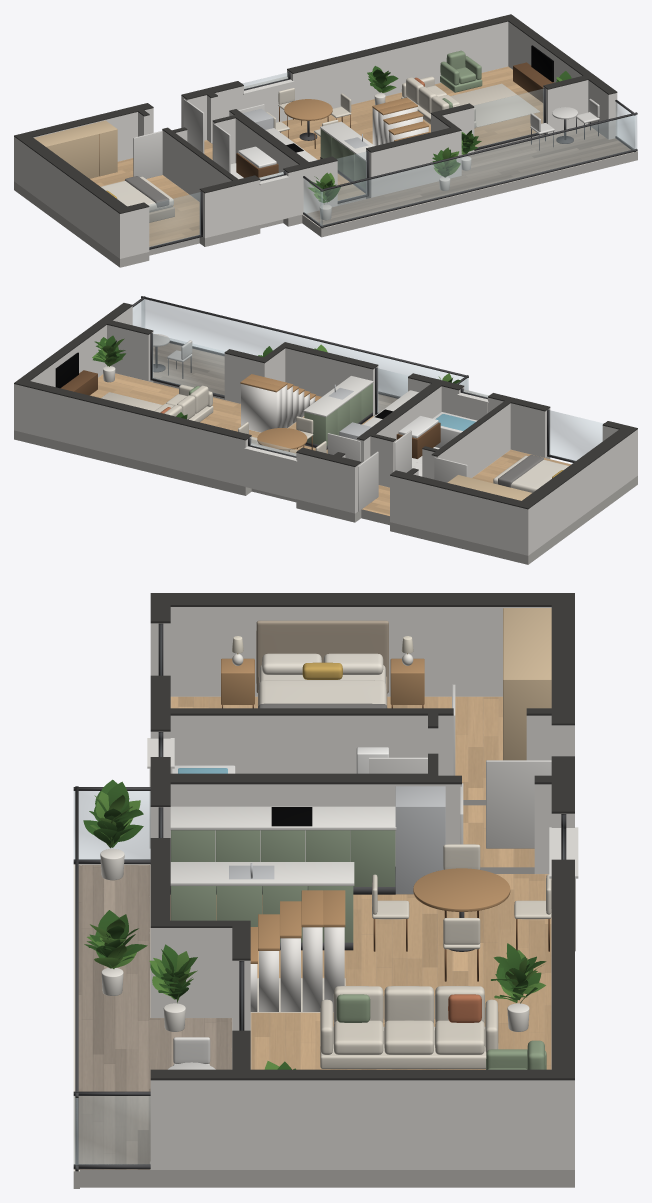
3 views of the same model, one above another, from view 1: azimuth 30°, elevation 25°; view 2: azimuth 150°, elevation 25°; view 3: azimuth 270°, elevation 25° (orthographic). The views are drawn at different scales.
Parts seen in each view (by area): view 1: walls, floor, Cube.027, caps, Cube.049, Cube.016, Cube, Cube.092, Cube.021, Cube.008, sill, Cube.029 (+16 smaller); view 2: walls, floor, caps, Cube.027, Cube.016, Cube, sill.001, Cube.048, Cube.056, Cube.082, Cube.020, Cube.028 (+17 smaller); view 3: walls, floor, caps, Cube.049, Cube.030, Cube.075, Cube.068, Cube.054, Cube.020, Cube.082, Cylinder.012, Cube.056 (+38 smaller).
Part boxes in pixels (x1=…): walls: x1=14, y1=21, x2=617, y2=258; floor: x1=14, y1=66, x2=637, y2=267; Cube.027: x1=320, y1=115, x2=636, y2=225; caps: x1=14, y1=14, x2=617, y2=213; Cube.049: x1=34, y1=120, x2=117, y2=178; Cube.016: x1=474, y1=88, x2=543, y2=147; Cube: x1=148, y1=192, x2=200, y2=247; Cube.092: x1=450, y1=83, x2=539, y2=127; Cube.021: x1=133, y1=131, x2=162, y2=178; Cube.008: x1=337, y1=151, x2=366, y2=201; sill: x1=260, y1=178, x2=288, y2=224; Cube.029: x1=320, y1=149, x2=637, y2=228; walls: x1=14, y1=306, x2=637, y2=555; floor: x1=14, y1=343, x2=637, y2=564; caps: x1=14, y1=303, x2=637, y2=509; Cube.027: x1=141, y1=299, x2=468, y2=396; Cube.016: x1=152, y1=334, x2=224, y2=395; Cube: x1=549, y1=410, x2=603, y2=460; sill.001: x1=245, y1=450, x2=296, y2=499; Cube.048: x1=241, y1=384, x2=281, y2=432; Cube.056: x1=493, y1=455, x2=568, y2=492; Cube.082: x1=303, y1=376, x2=373, y2=417; Cube.020: x1=358, y1=451, x2=378, y2=511; Cube.028: x1=141, y1=296, x2=468, y2=377; walls: x1=150, y1=607, x2=574, y2=1169; floor: x1=73, y1=696, x2=574, y2=1188; caps: x1=150, y1=593, x2=574, y2=1080; Cube.049: x1=503, y1=608, x2=551, y2=760; Cube.030: x1=74, y1=1096, x2=150, y2=1164; Cube.075: x1=170, y1=806, x2=396, y2=830; Cube.068: x1=395, y1=786, x2=445, y2=894; Cube.054: x1=256, y1=620, x2=388, y2=693; Cube.020: x1=486, y1=760, x2=551, y2=848; Cube.082: x1=170, y1=862, x2=354, y2=885; Cylinder.012: x1=413, y1=868, x2=510, y2=911; Cube.056: x1=258, y1=680, x2=386, y2=705.
Bounding box in the file's own units: 14.24 × 1.49 × 6.24.
32 materials, 1 textured.
